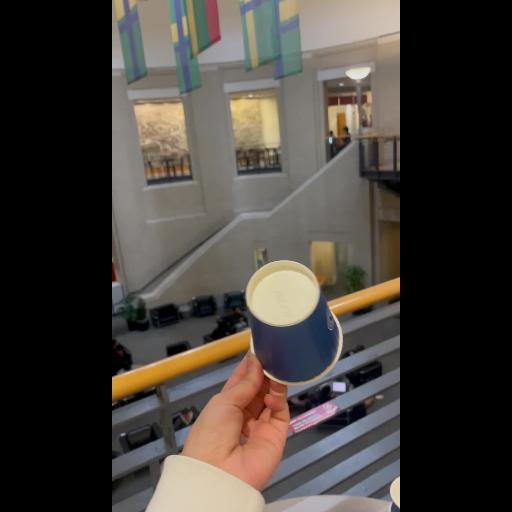lp_paper_cup: (242, 252, 352, 392)
